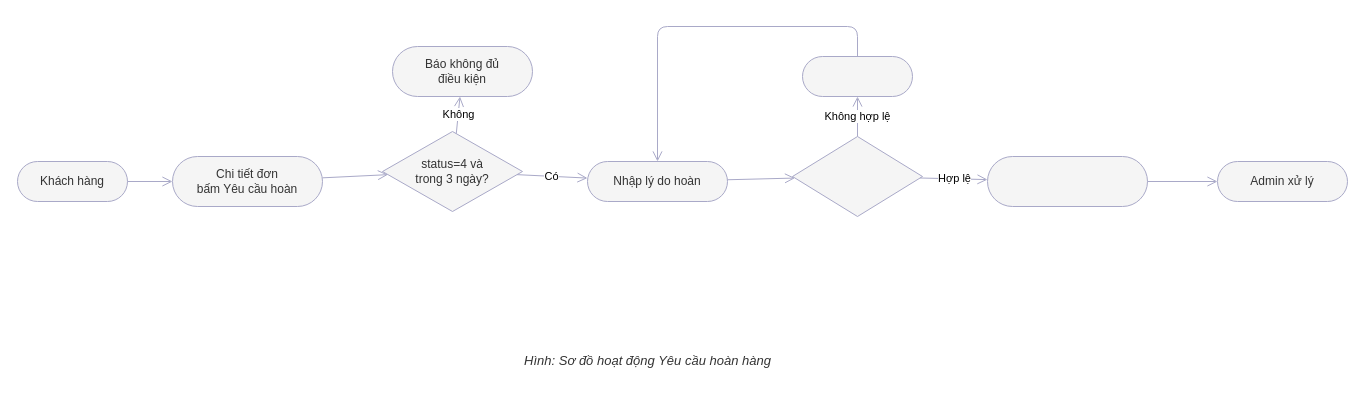
Some shapes in this 1365 by 394 pixel diagram are drawn without their labels. The shapes that lost their labels are listed below. From the top down, each one's box as (x1, y1, x2, y2) in pixels, then its label:
(802, 56, 912, 96): Báo lỗi
(792, 136, 922, 216): Validate min 5 ký tự?
(986, 156, 1148, 206): status → 5 lý do nối vào note
